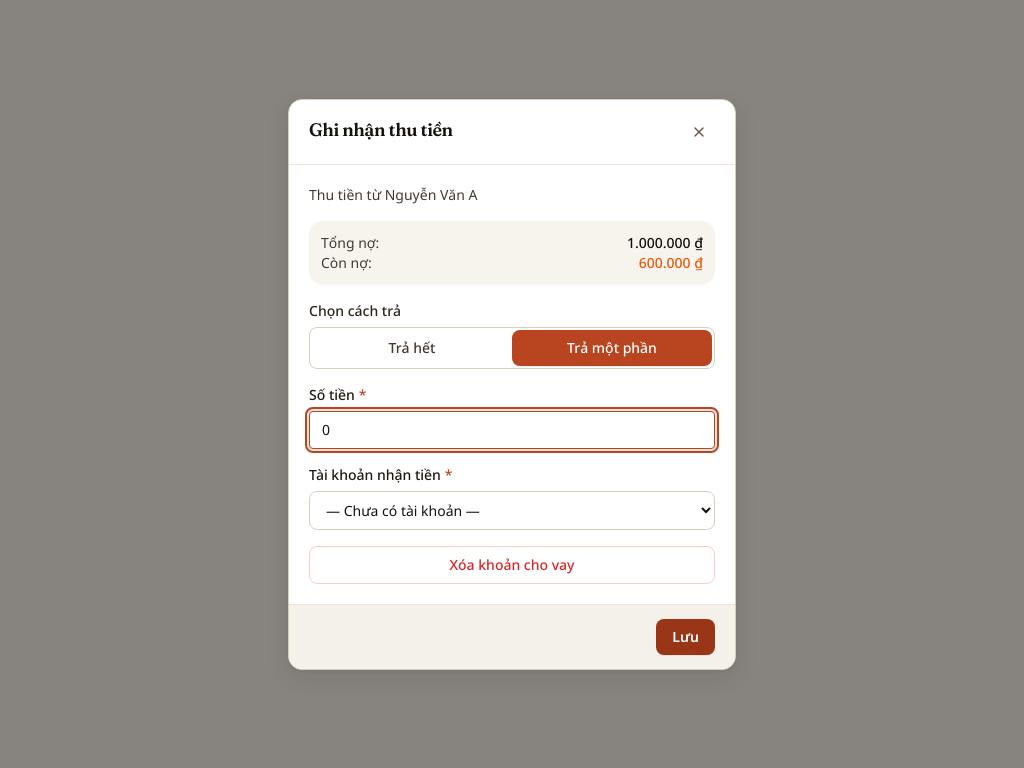
Test: PaymentModal › Validation: amount > remaining → submit hiển thị error
Replace the text in the field with "70000000" at (512, 430), box x1=309 y1=410 x2=715 y2=448
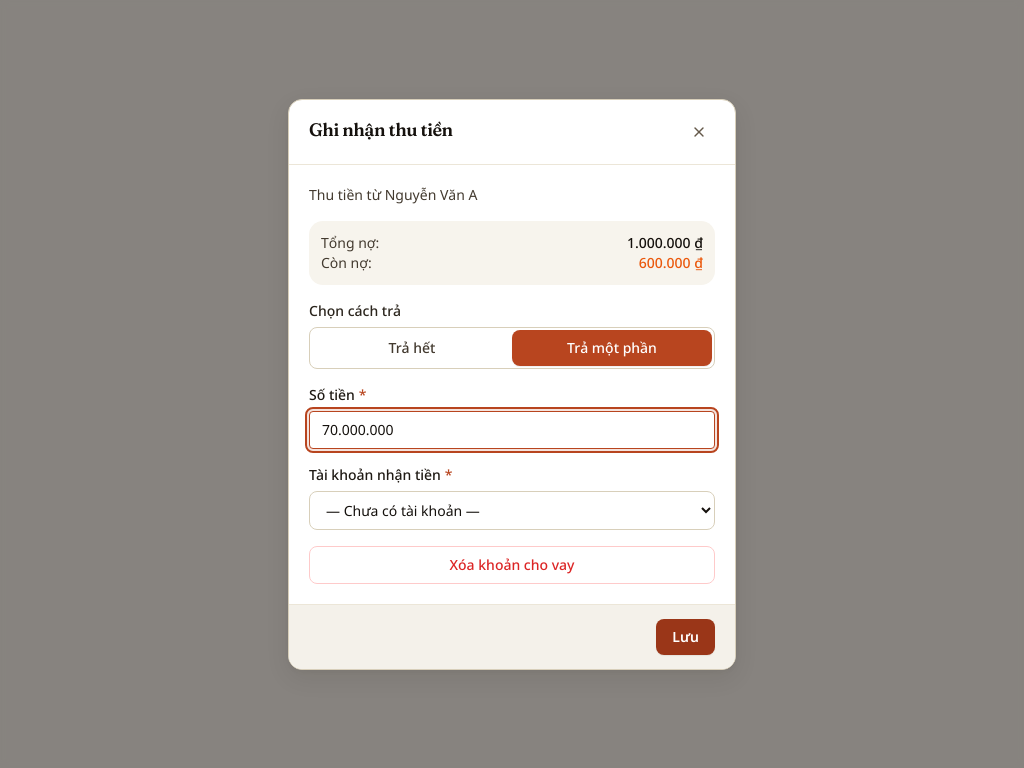
Click the button "Lưu" at (686, 636), box x1=656 y1=618 x2=715 y2=654
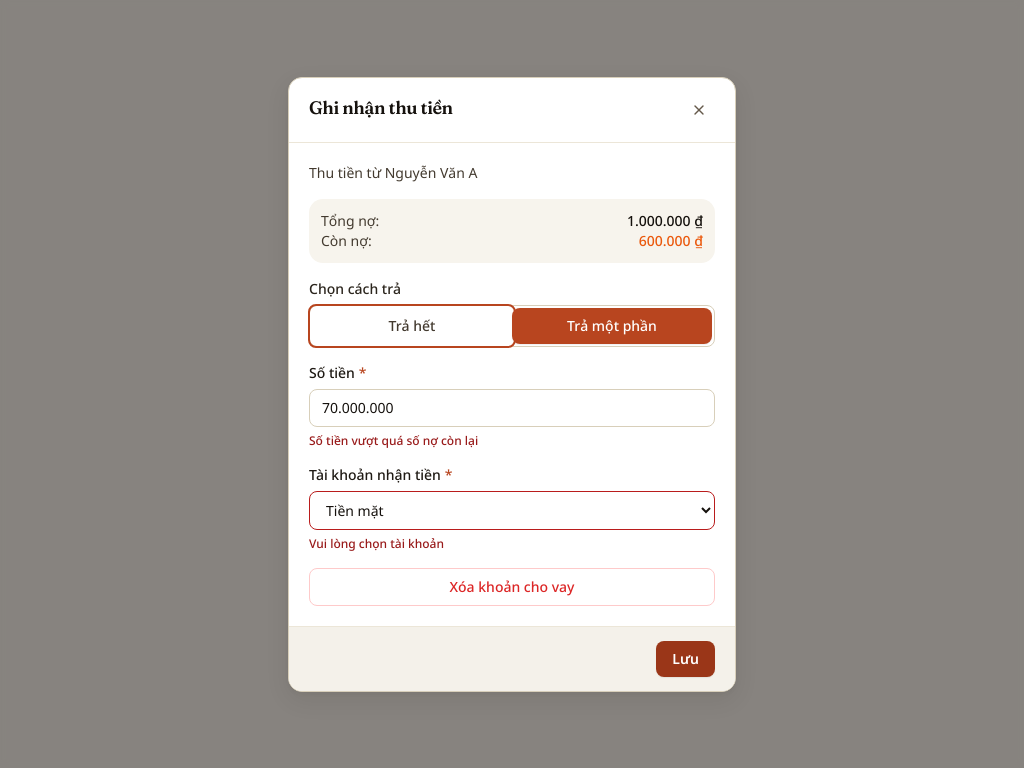
Result: the text "Số tiền vượt quá số nợ còn lại" is shown at x1=309 y1=432 x2=478 y2=448
